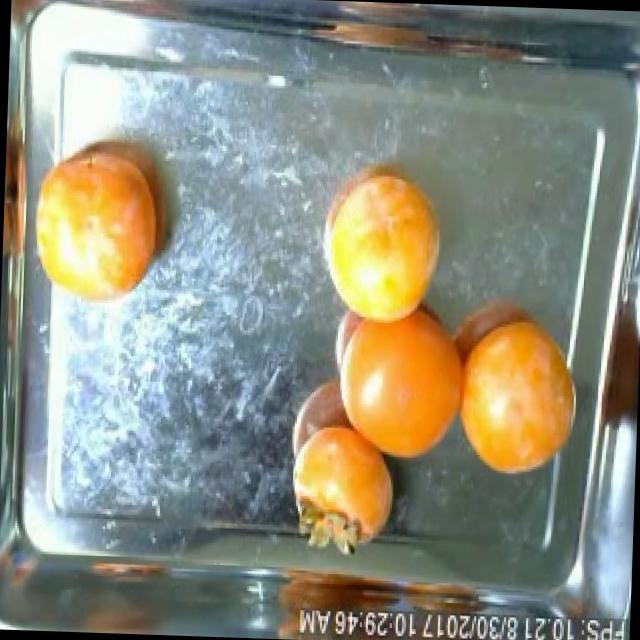Fruit: (28, 116, 185, 320), (440, 290, 589, 491), (307, 146, 456, 342), (290, 404, 411, 564)
